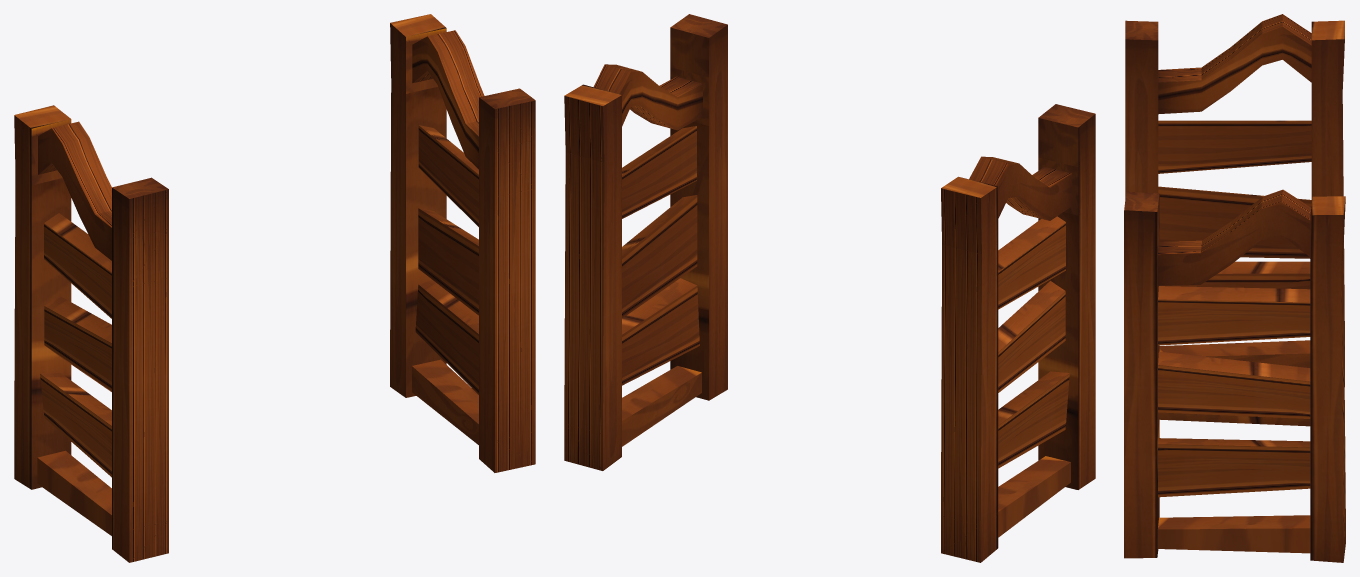
File: ANIMACION PUERTAcerrar1.fbx
3 renders of one model, left to right at view 1: azimuth 30°, elevation 25°; view 2: azimuth 150°, elevation 25°; view 3: azimuth 270°, elevation 25°, orthographic. The views are drawn at different scales.
Visible parts, largest first — view 1: Cube.001, Cube.051; view 2: Cube.051, Cube.001; view 3: Cube.051, Cube.001.
Part boxes in pixels (x1=…): Cube.001: x1=14, y1=105, x2=168, y2=562; Cube.051: x1=390, y1=14, x2=535, y2=472; Cube.051: x1=564, y1=14, x2=727, y2=470; Cube.001: x1=941, y1=104, x2=1095, y2=562; Cube.051: x1=1124, y1=189, x2=1345, y2=562; Cube.001: x1=1125, y1=14, x2=1344, y2=386.
Size of the model in its own units: 134 by 114 by 64.4.
